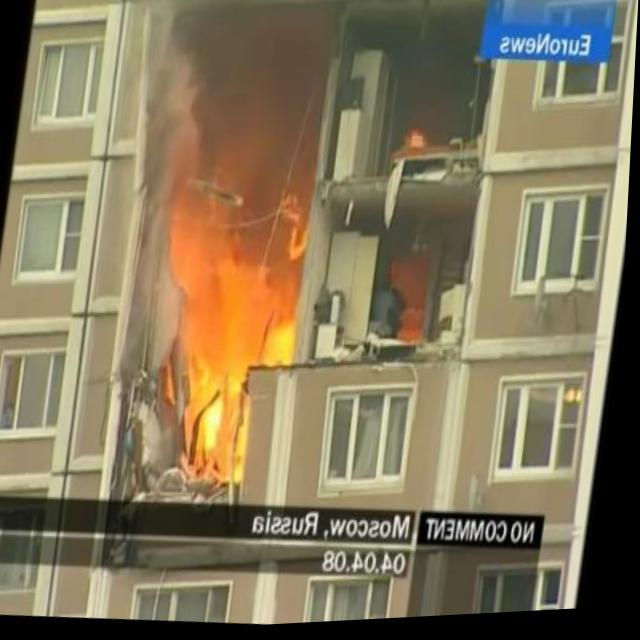fire: (174, 336, 264, 486), (257, 311, 301, 377), (404, 130, 429, 156)
